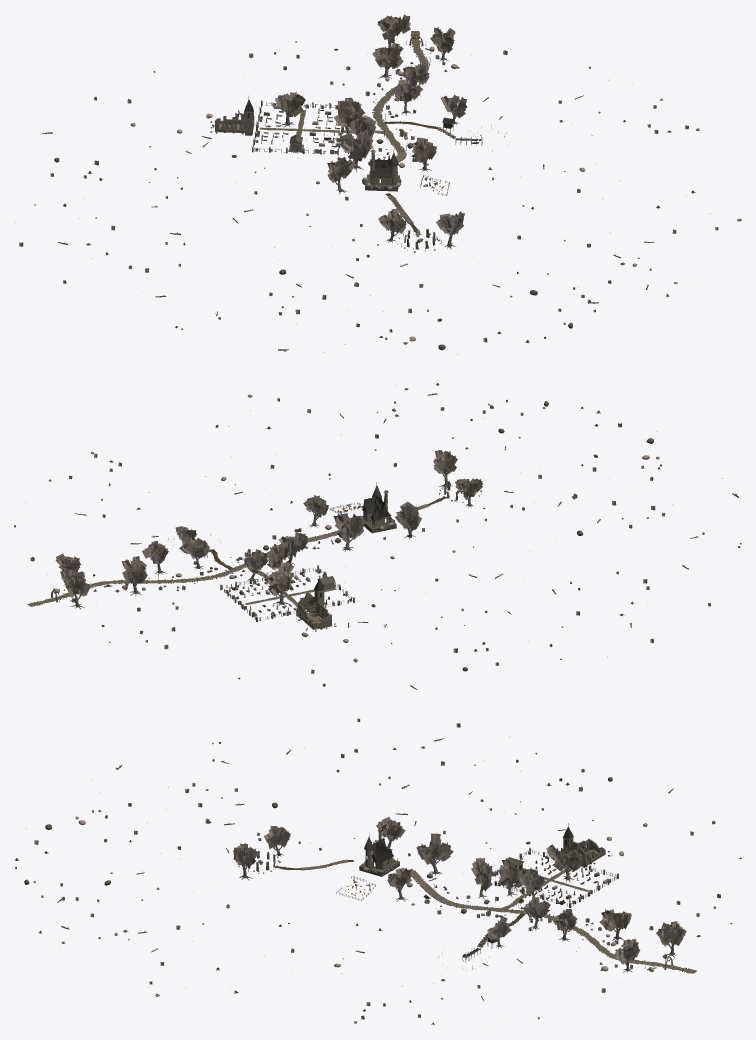
File: bosco_strega.glb
3 renders of one model, top to bottom at view 1: azimuth 30°, elevation 25°; view 2: azimuth 150°, elevation 25°; view 3: azimuth 270°, elevation 25°, orthographic. The views are drawn at different scales.
Parts seen in each view (by area): view 1: alberi.rametti, sentieri.ciottoli, bosco.rametti, alberi.corteccia, bosco.corteccia, cappella.muro, casa.muro; view 2: alberi.rametti, sentieri.ciottoli, bosco.rametti, alberi.corteccia, cappella.muro, bosco.corteccia, casa.tetto; view 3: alberi.rametti, sentieri.ciottoli, bosco.rametti, alberi.corteccia, sentieri.pietra, bosco.corteccia, cappella.muro, casa.muro.
Boxes of the visible parts, <box> form: alberi.rametti: <box>275,14,467,234</box>; sentieri.ciottoli: <box>259,31,429,152</box>; bosco.rametti: <box>19,46,718,342</box>; alberi.corteccia: <box>280,41,458,249</box>; bosco.corteccia: <box>42,33,695,350</box>; cappella.muro: <box>210,107,254,135</box>; casa.muro: <box>365,149,399,191</box>; alberi.rametti: <box>55,450,482,597</box>; sentieri.ciottoli: <box>27,530,339,610</box>; bosco.rametti: <box>14,398,710,686</box>; alberi.corteccia: <box>64,470,473,609</box>; cappella.muro: <box>296,590,335,631</box>; bosco.corteccia: <box>48,383,738,689</box>; casa.tetto: <box>362,485,391,520</box>; alberi.rametti: <box>233,817,686,964</box>; sentieri.ciottoli: <box>408,867,697,973</box>; bosco.rametti: <box>15,718,720,1019</box>; alberi.corteccia: <box>239,830,675,972</box>; sentieri.pietra: <box>281,859,693,973</box>; bosco.corteccia: <box>15,738,701,1024</box>; cappella.muro: <box>563,838,609,867</box>; casa.muro: <box>359,827,399,876</box>.
Size of the model in its own units: 310 by 29.91 by 313.
Materials: 14 (9 with a texture image).
